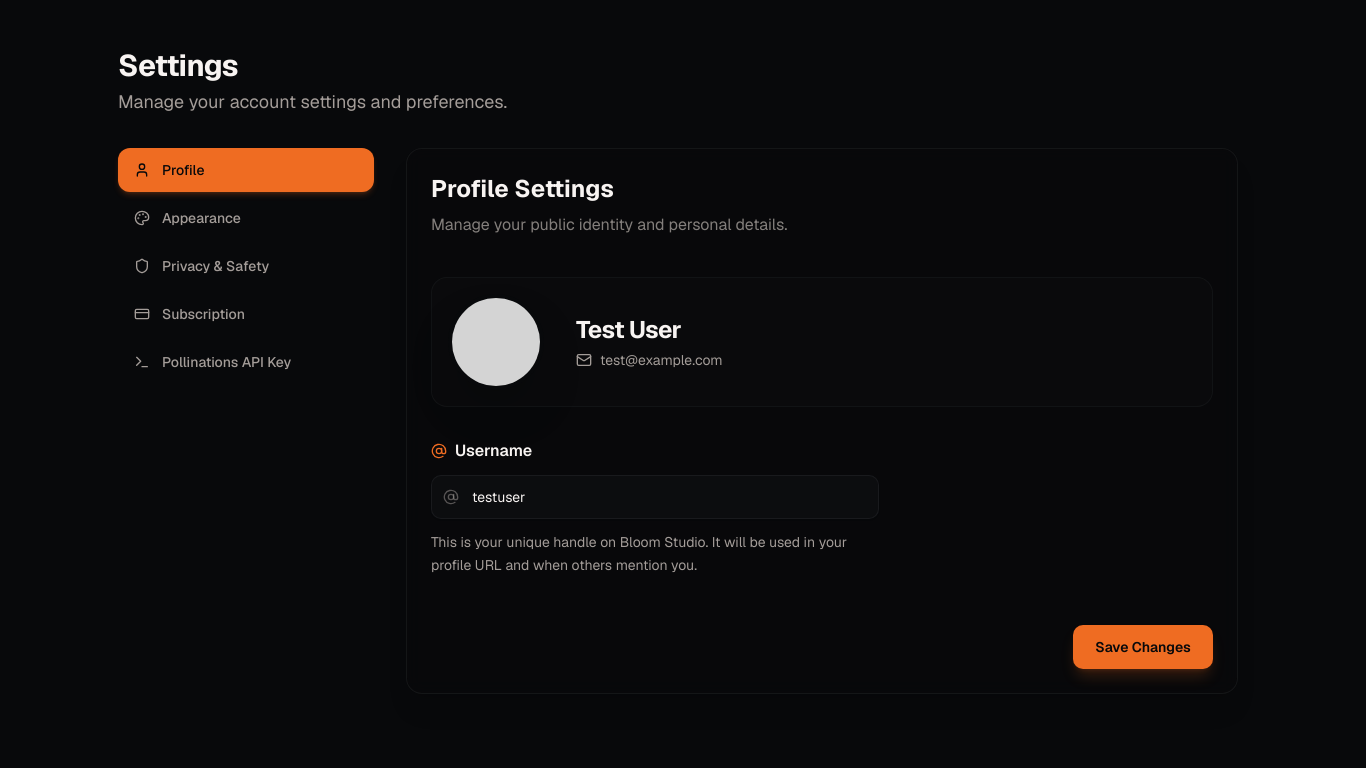
Test: SettingsPage › switches to Subscription view
What coordinates should you click on to do the following:
click the tab "Subscription"
I would click on:
 (246, 314)
Its box is [118,292,374,336].
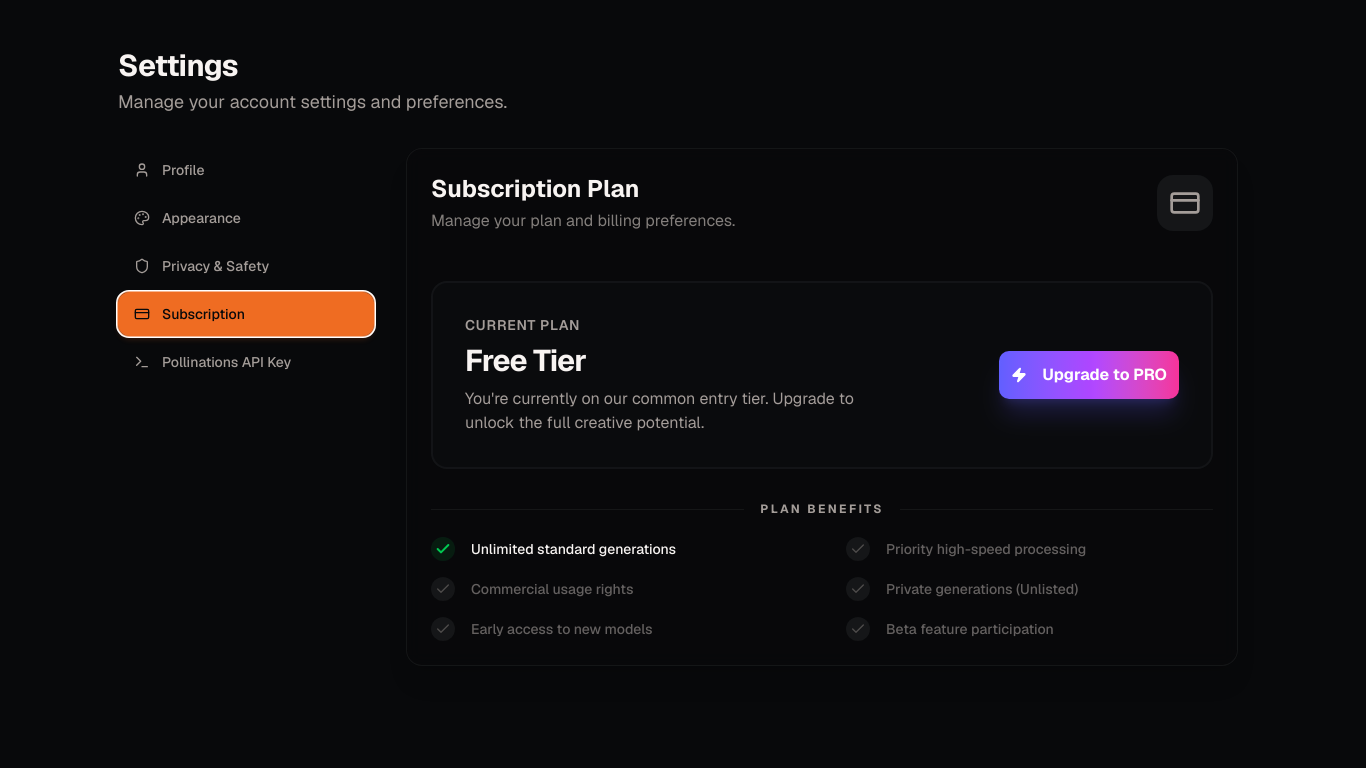
expect the text "Subscription Plan" is shown: met, box [431,173,640,204]
expect the heading "Plan Benefits" is shown: met, box [752,501,892,517]
